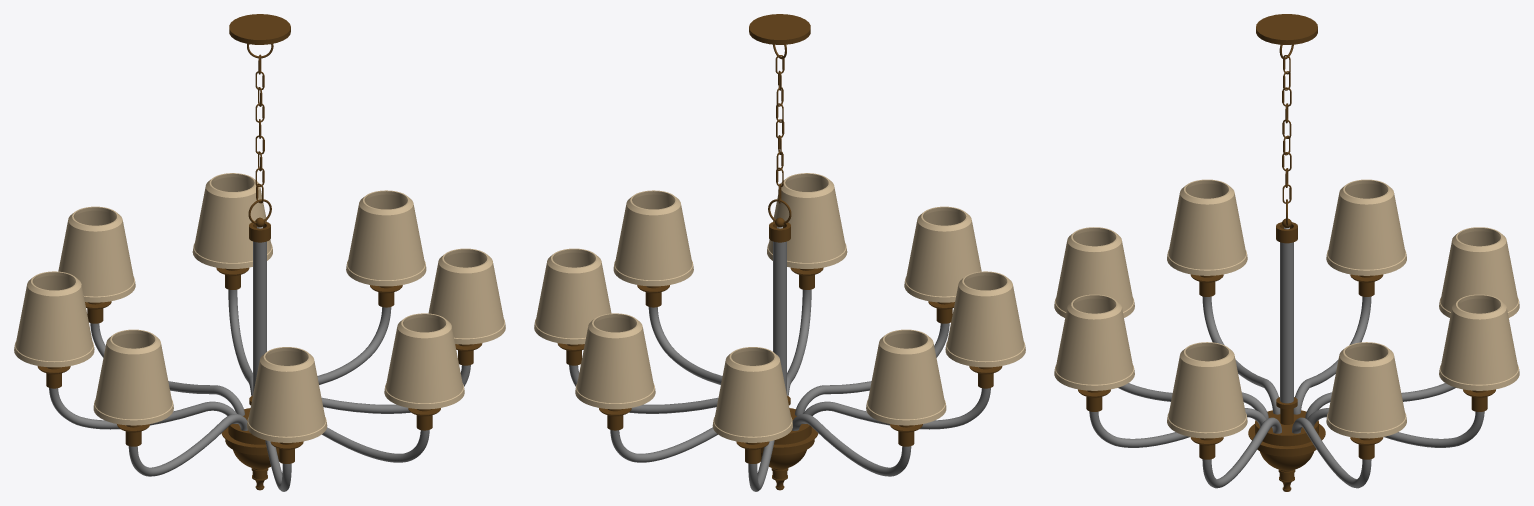
File: chandelier_FBX.fbx
3 renders of one model, left to right at view 1: azimuth 30°, elevation 25°; view 2: azimuth 150°, elevation 25°; view 3: azimuth 270°, elevation 25°, orthographic.
Parts seen in each view (by area): view 1: chandelier; view 2: chandelier; view 3: chandelier.
Part boxes in pixels (x1,y1,x2,y2): chandelier: [14, 14, 505, 491]; chandelier: [534, 14, 1025, 491]; chandelier: [1054, 14, 1519, 491].
Size of what is drawn, in the model's own units: 984 by 1081 by 984.
